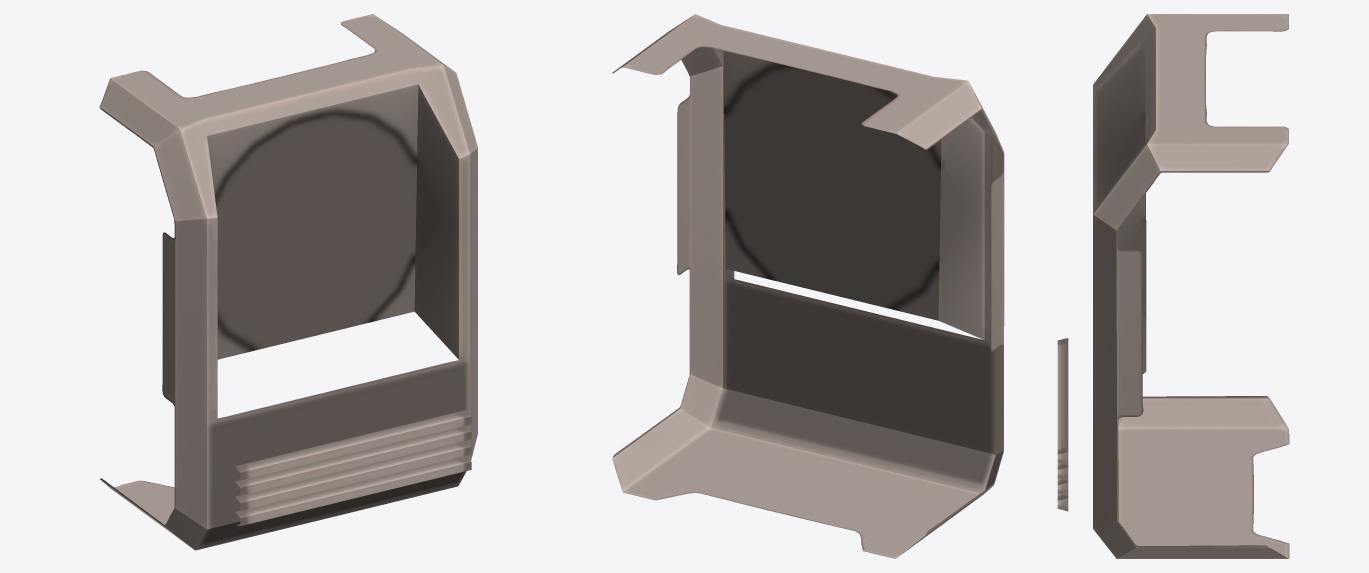
File: IG_Backpack_FC.fbx
3 views of the same model, side by side, from view 1: azimuth 30°, elevation 25°; view 2: azimuth 150°, elevation 25°; view 3: azimuth 270°, elevation 25° (orthographic). The views are drawn at different scales.
Visible parts, largest first — view 1: Suit_FC_Bag; view 2: Suit_FC_Bag; view 3: Suit_FC_Bag.
Boxes of the visible parts, box(x1,y1,x2,y2) form: Suit_FC_Bag: box(99, 14, 477, 550); Suit_FC_Bag: box(612, 14, 1004, 558); Suit_FC_Bag: box(1057, 14, 1289, 558).
Bounding box in the file's own units: 0.4241 × 0.4259 × 0.2836.
